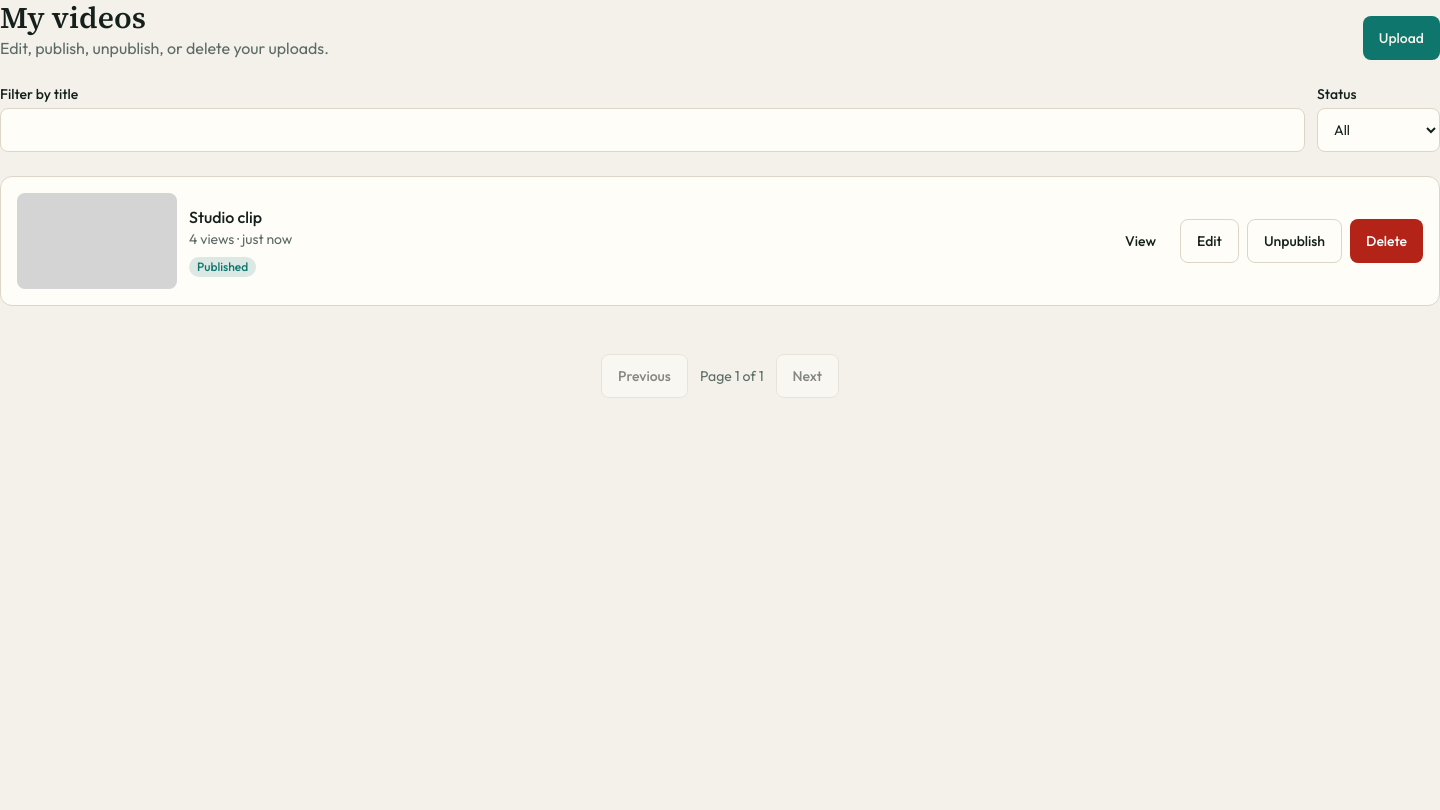
Test case: video management › shows unauthorized delete error
The image size is (1440, 810).
Step 1. Click the button "Delete" → (1386, 241), box 1350,219 -> 1423,263
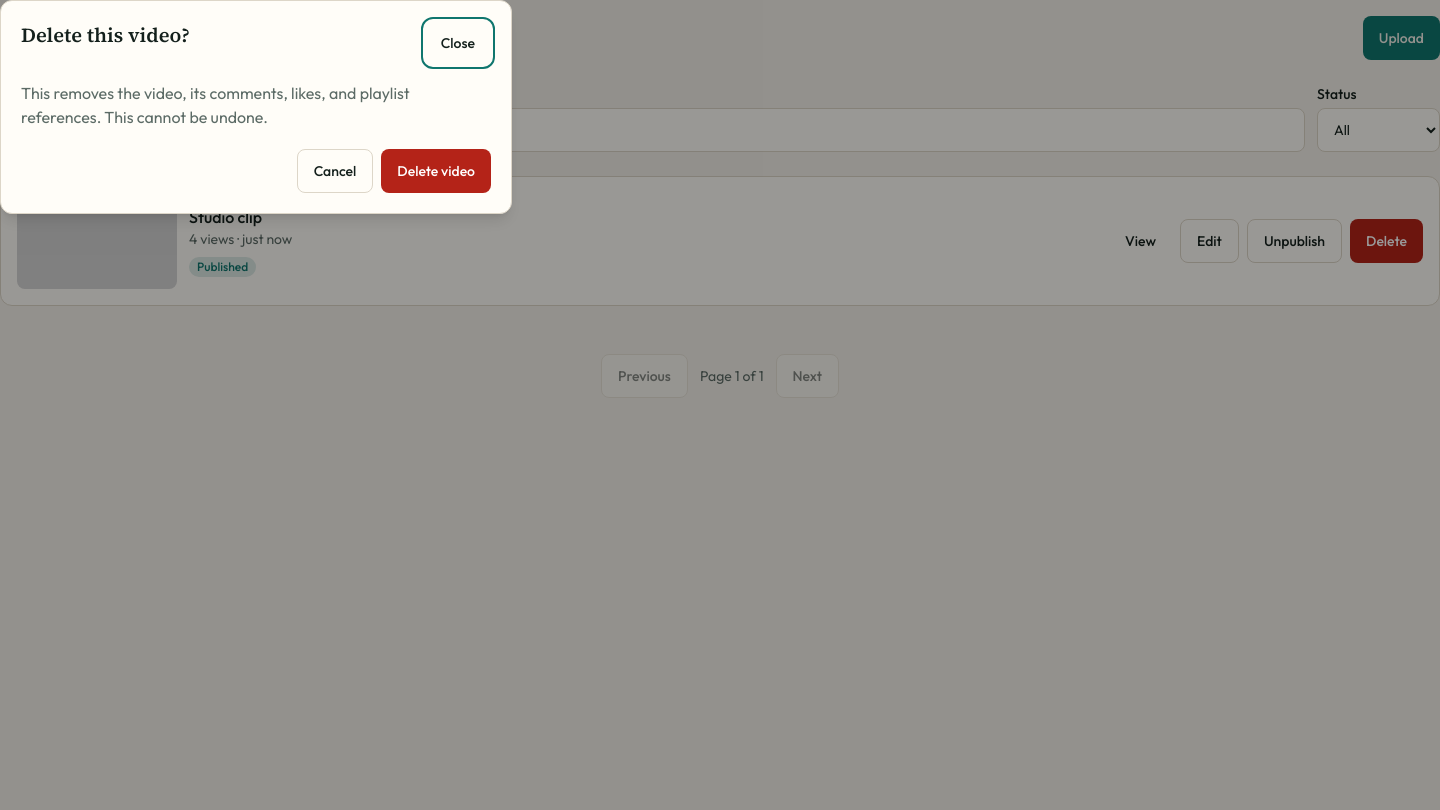
Step 2. Click the button "Delete video" → (436, 171), box 381,149 -> 491,193
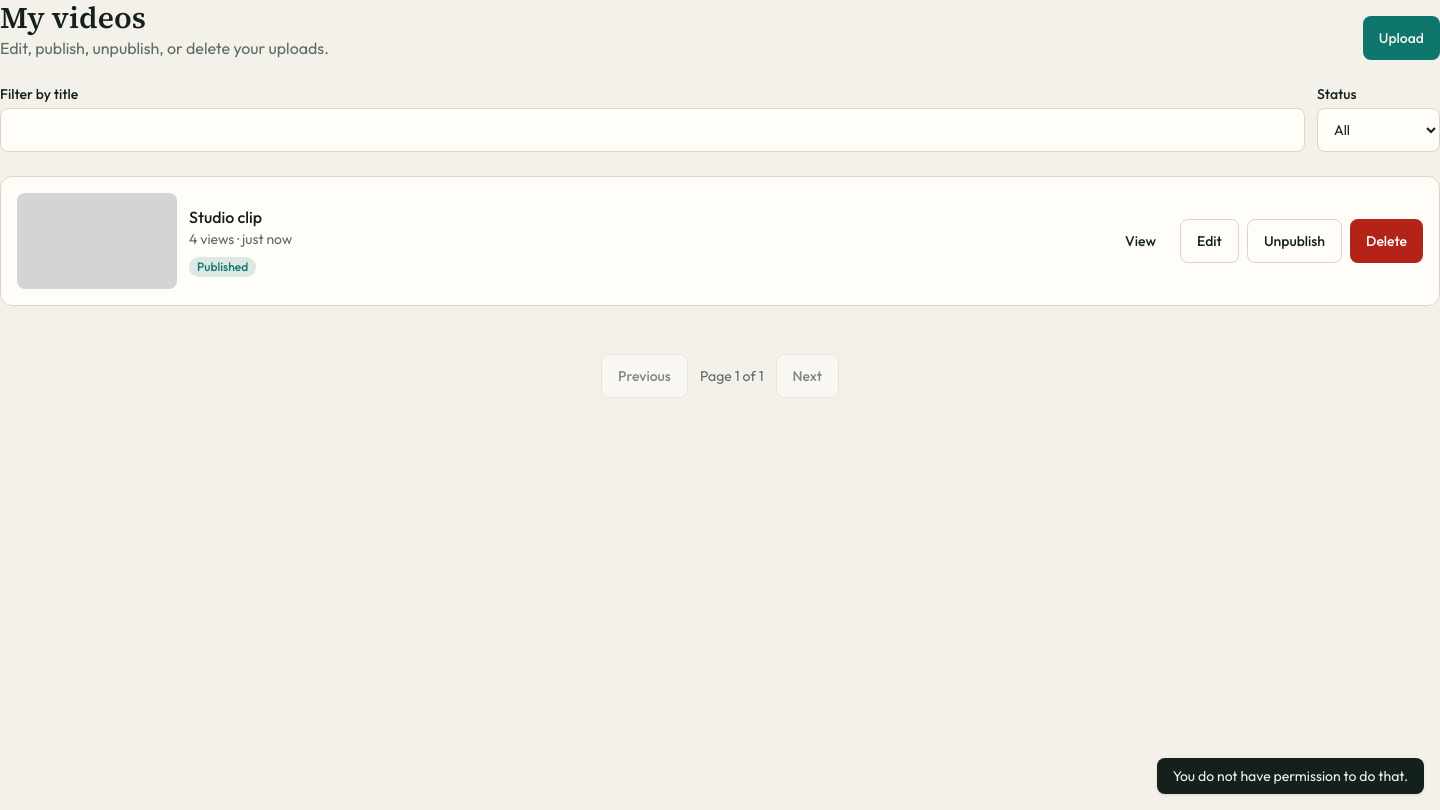
Result: the text "You do not have permission to do that." is shown at 1157,758 -> 1424,794
